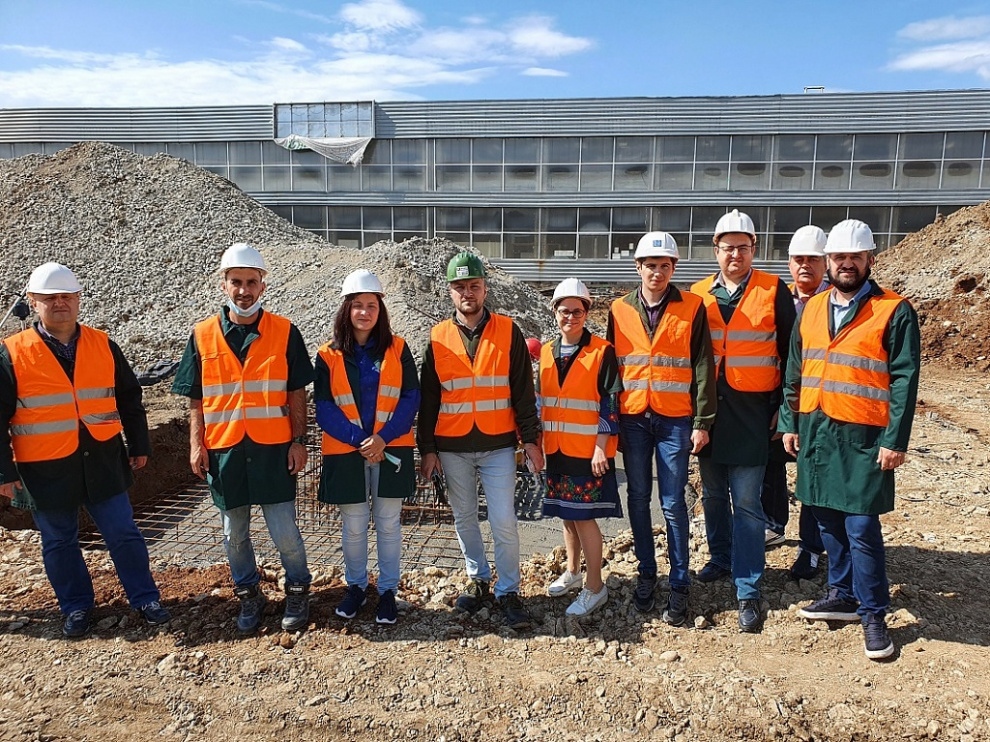Helmet: (25, 259, 95, 345), (211, 236, 280, 320), (824, 214, 881, 300), (702, 206, 764, 285), (335, 266, 396, 345), (443, 248, 503, 322), (627, 227, 684, 300), (547, 275, 602, 350), (782, 223, 832, 298)
Reflective vest: (2, 316, 124, 473), (186, 308, 306, 452), (796, 289, 916, 429), (689, 267, 789, 399), (610, 288, 702, 420), (319, 332, 416, 457), (429, 309, 521, 440), (538, 335, 619, 461)
